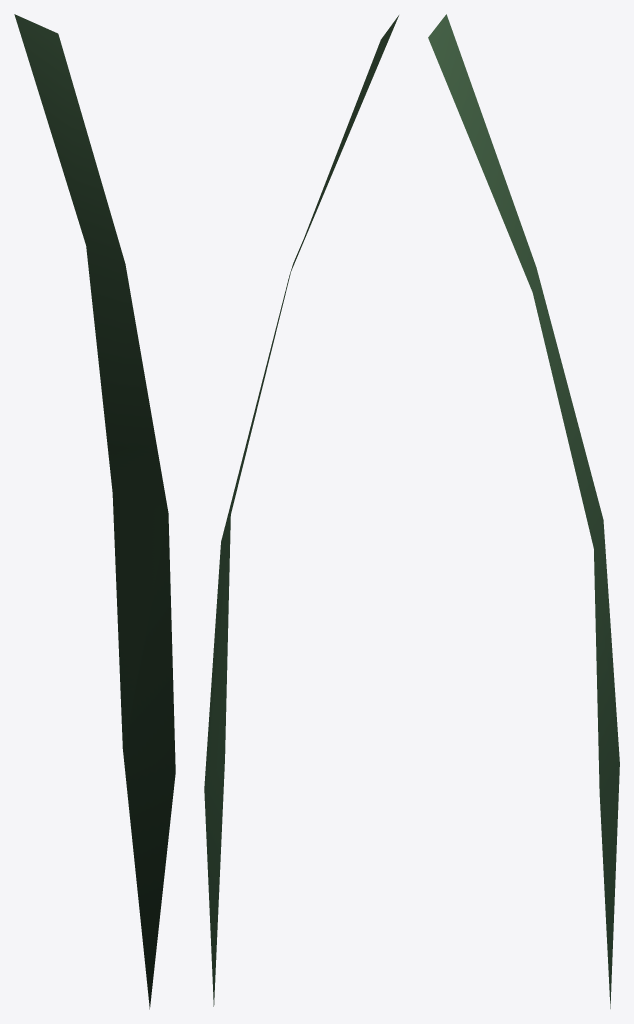
File: trees-grasses-grass-blade_v2.fbx
3 renders of one model, left to right at view 1: azimuth 30°, elevation 25°; view 2: azimuth 150°, elevation 25°; view 3: azimuth 330°, elevation 25°, orthographic. The views are drawn at different scales.
Parts seen in each view (by area): view 1: Grass Blade_v2; view 2: Grass Blade_v2; view 3: Grass Blade_v2.
Part boxes in pixels (x1,y1,x2,y2): Grass Blade_v2: (14,14,175,1009); Grass Blade_v2: (204,15,398,1006); Grass Blade_v2: (428,14,619,1008).
Bounding box in the file's own units: 0.0488 × 0.3 × 0.0368.
